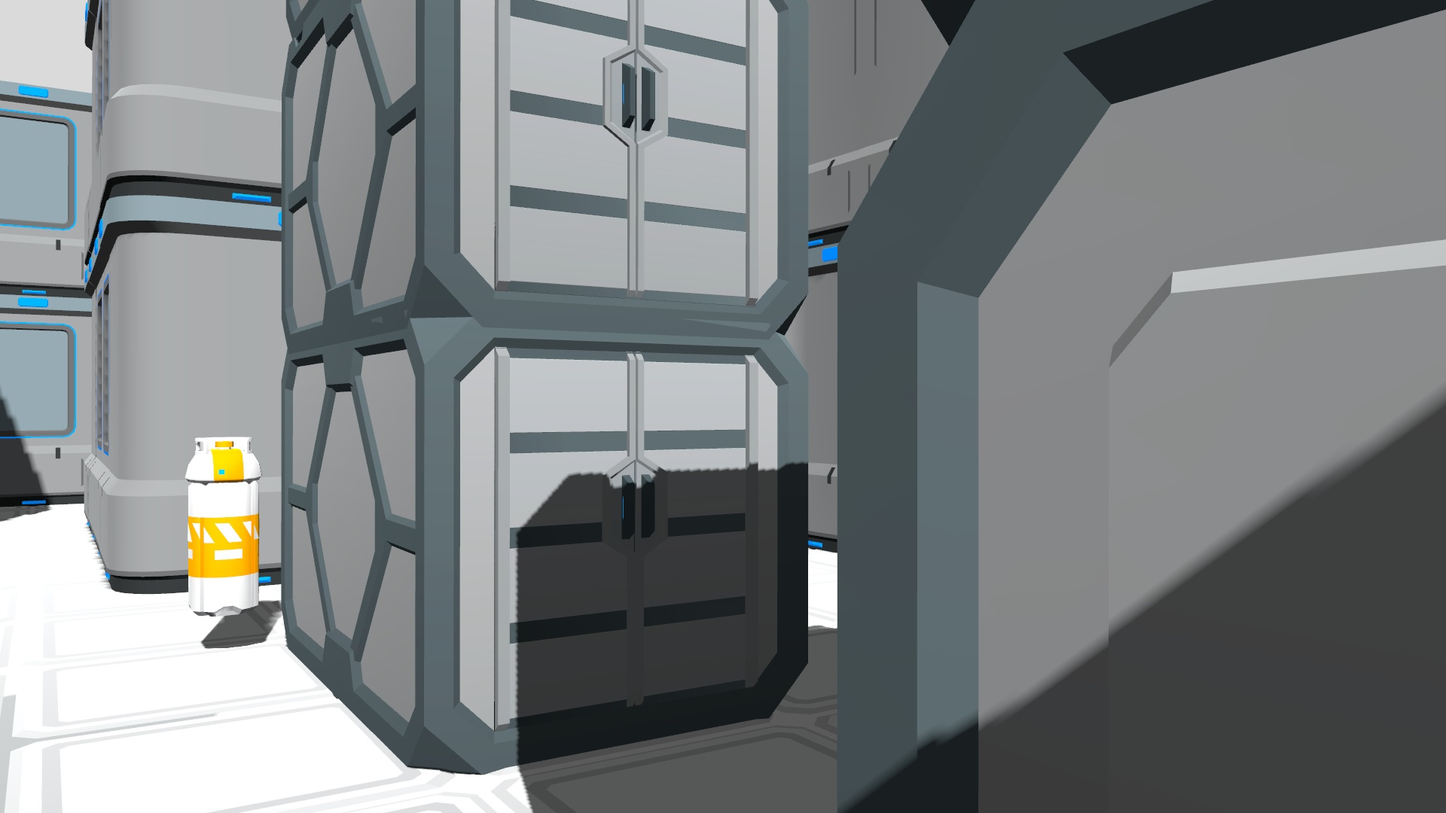yellow_barrel: (176, 426, 268, 623)
